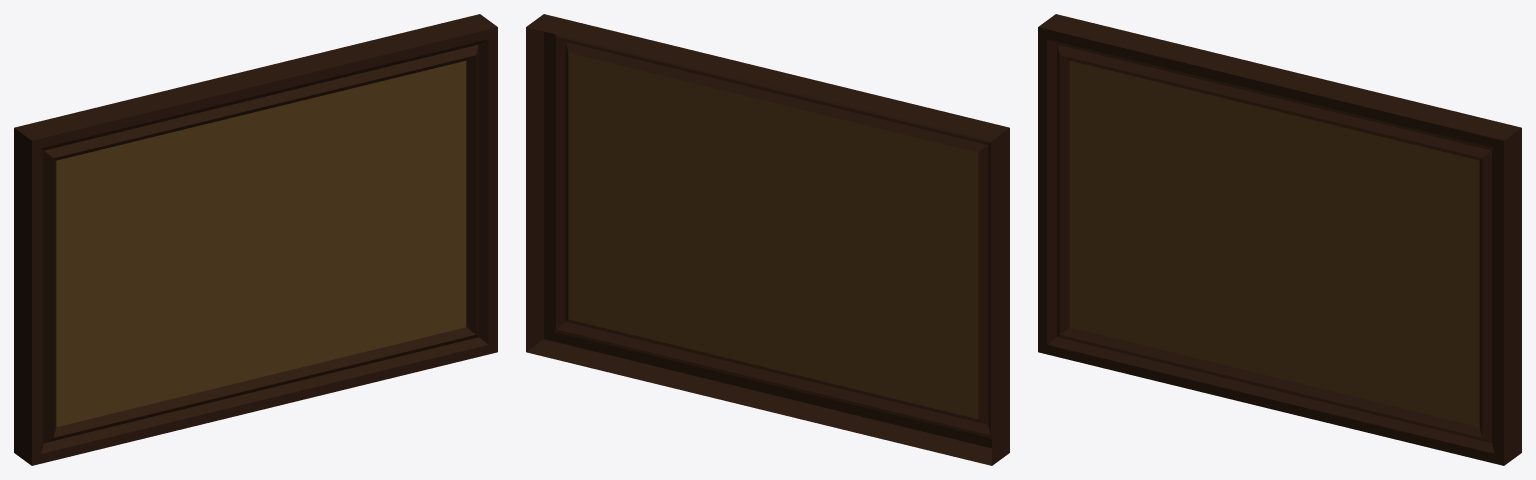
Rendered from SM_Frame_01.fbx.
3 views of the same model, side by side, from view 1: azimuth 30°, elevation 25°; view 2: azimuth 150°, elevation 25°; view 3: azimuth 330°, elevation 25° (orthographic).
Visible parts, largest first — view 1: SM_Frame_01; view 2: SM_Frame_01; view 3: SM_Frame_01.
Part boxes in pixels (left/top/right/bottom): SM_Frame_01: left=14, top=14, right=497, bottom=465; SM_Frame_01: left=526, top=14, right=1009, bottom=465; SM_Frame_01: left=1038, top=14, right=1521, bottom=465.
Bounding box in the file's own units: 59.06 × 39.37 × 3.94.
